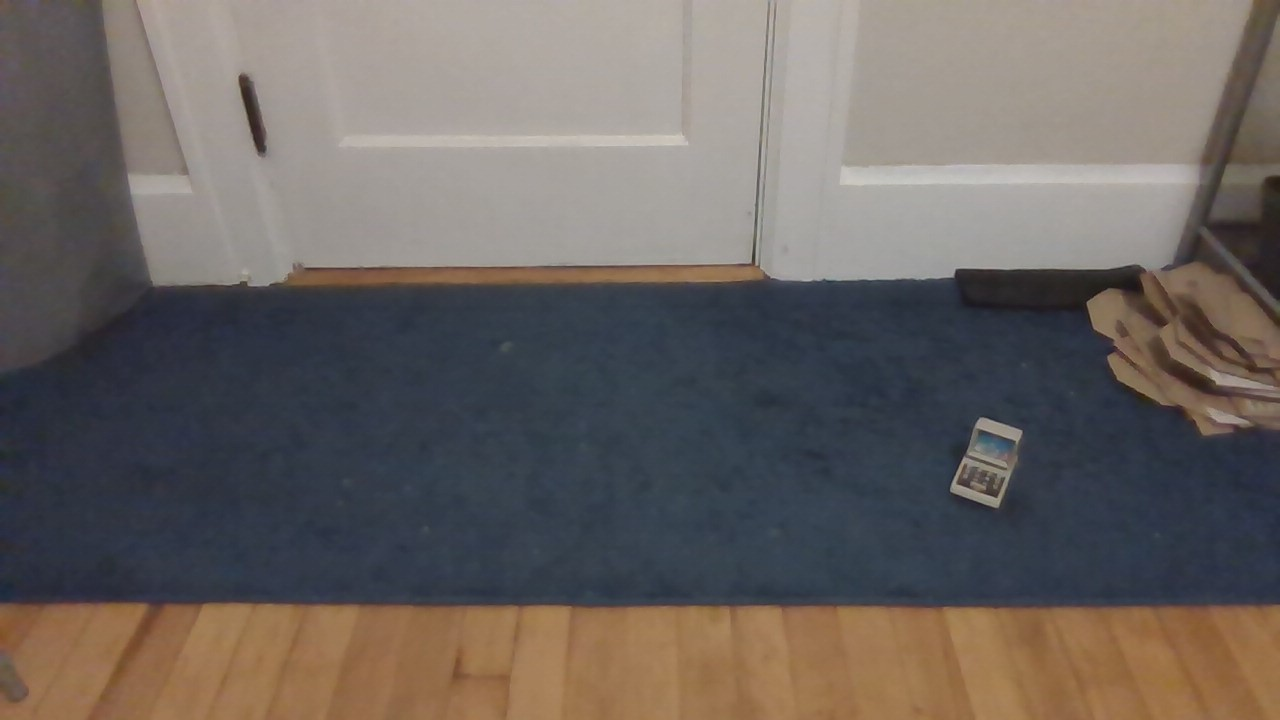Toy: (939, 412, 1032, 516)
